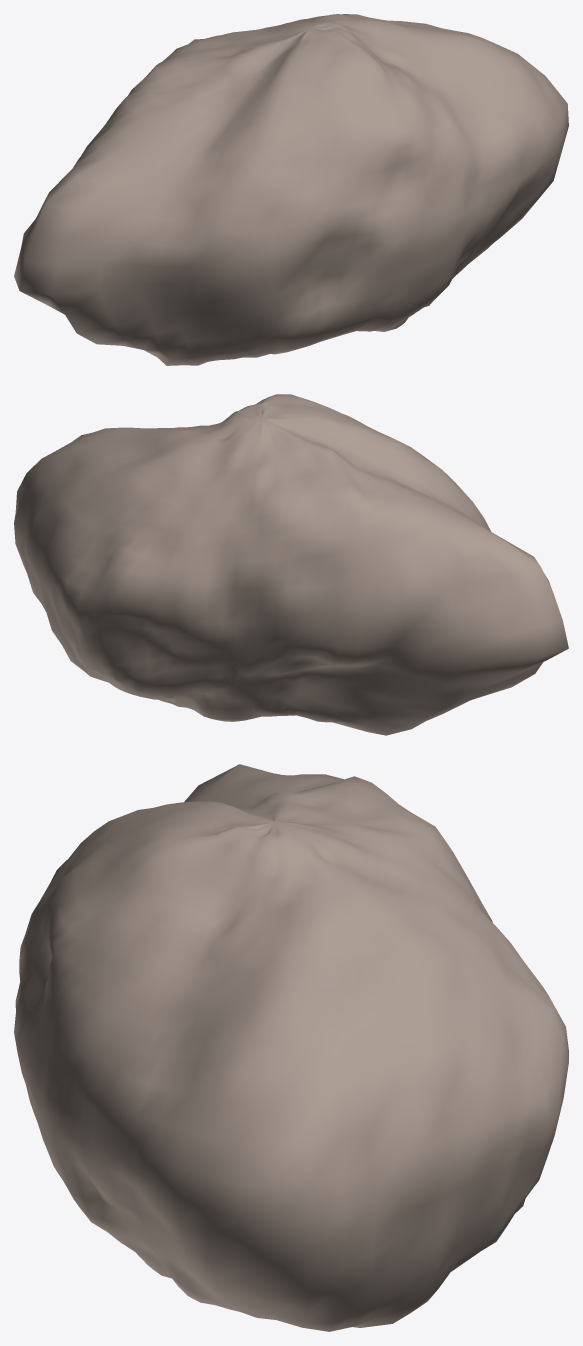
The model's file is Amalthea_LOD1.fbx.
3 renders of one model, top to bottom at view 1: azimuth 30°, elevation 25°; view 2: azimuth 150°, elevation 25°; view 3: azimuth 270°, elevation 25°, orthographic. The views are drawn at different scales.
Visible parts, largest first — view 1: AmaltheaSurface_LOD1; view 2: AmaltheaSurface_LOD1; view 3: AmaltheaSurface_LOD1.
Boxes of the visible parts, x1=… form: AmaltheaSurface_LOD1: x1=14, y1=14, x2=568, y2=365; AmaltheaSurface_LOD1: x1=14, y1=394, x2=568, y2=735; AmaltheaSurface_LOD1: x1=14, y1=764, x2=568, y2=1331.
Bounding box in the file's own units: 3.27 × 1.7 × 1.93.
